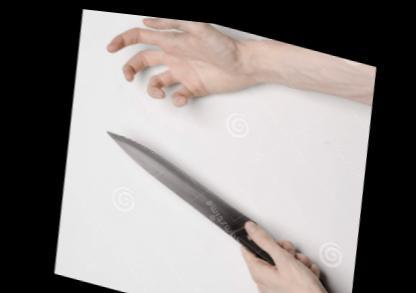knife: (83, 118, 302, 272)
